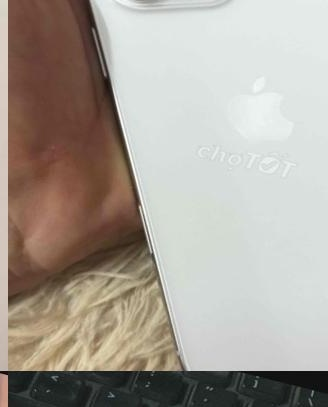screen_defect: (0, 340, 190, 407)
